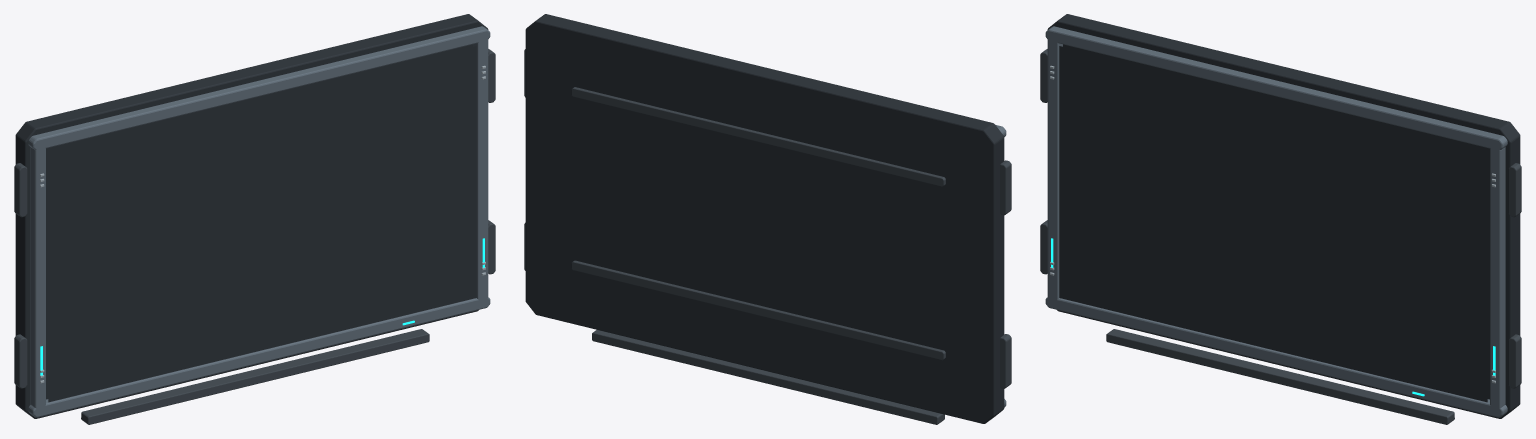
File: FZH_Kinetic_Monitor.glb
3 views of the same model, side by side, from view 1: azimuth 30°, elevation 25°; view 2: azimuth 150°, elevation 25°; view 3: azimuth 330°, elevation 25° (orthographic).
Parts seen in each view (by area): view 1: Monitor_Screen, Monitor_Bezel, Monitor_Chassis, Monitor_System_Rail, Monitor_Left_Segments, Monitor_Right_Segments; view 2: Monitor_Chassis, Monitor_Back, Monitor_System_Rail, Monitor_Left_Segments; view 3: Monitor_Screen, Monitor_Bezel, Monitor_Chassis, Monitor_System_Rail, Monitor_Right_Segments, Monitor_Left_Segments.
Part boxes in pixels (left/top/right/bottom): Monitor_Screen: left=48, top=46, right=476, bottom=402; Monitor_Bezel: left=28, top=26, right=490, bottom=417; Monitor_Chassis: left=15, top=14, right=488, bottom=418; Monitor_System_Rail: left=81, top=329, right=429, bottom=424; Monitor_Left_Segments: left=14, top=163, right=27, bottom=388; Monitor_Right_Segments: left=488, top=49, right=495, bottom=274; Monitor_Chassis: left=525, top=14, right=1004, bottom=423; Monitor_Back: left=571, top=87, right=945, bottom=360; Monitor_System_Rail: left=592, top=330, right=944, bottom=424; Monitor_Left_Segments: left=1000, top=160, right=1011, bottom=388; Monitor_Screen: left=1059, top=46, right=1487, bottom=402; Monitor_Bezel: left=1045, top=26, right=1507, bottom=417; Monitor_Chassis: left=1047, top=14, right=1520, bottom=418; Monitor_System_Rail: left=1106, top=329, right=1454, bottom=424; Monitor_Right_Segments: left=1508, top=163, right=1521, bottom=388; Monitor_Left_Segments: left=1040, top=49, right=1047, bottom=274.
Size of what is drawn, in the model's own units: 3.2 by 1.98 by 0.219.
